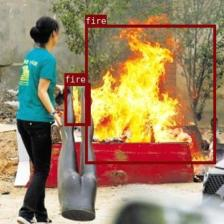fire: (84, 24, 216, 164), (64, 83, 90, 125)
